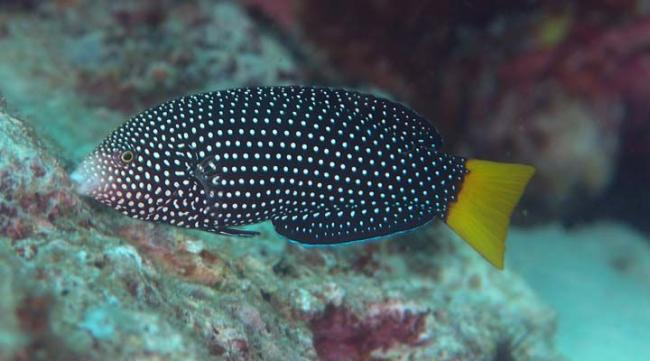fish: (70, 85, 536, 271)
